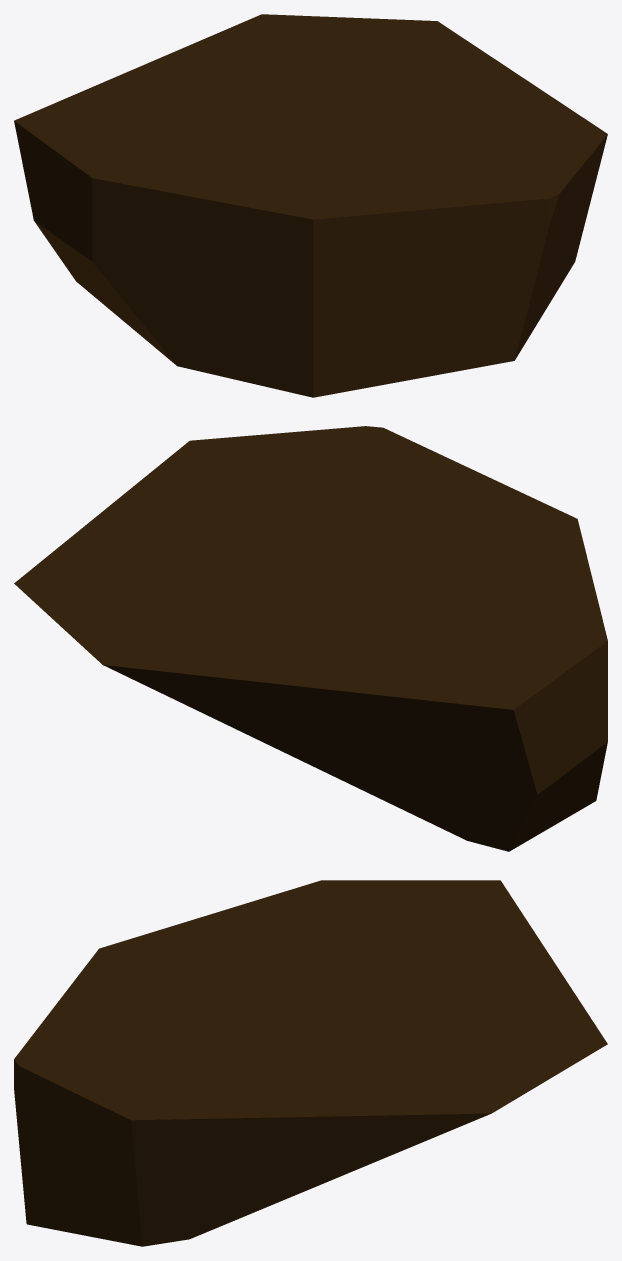
The model's file is Debris13.glb.
3 views of the same model, one above another, from view 1: azimuth 30°, elevation 25°; view 2: azimuth 150°, elevation 25°; view 3: azimuth 270°, elevation 25° (orthographic). The views are drawn at different scales.
Visible parts, largest first — view 1: Cylinder_cell.010; view 2: Cylinder_cell.010; view 3: Cylinder_cell.010.
Boxes of the visible parts, <box> form: Cylinder_cell.010: <box>14,14,607,397</box>; Cylinder_cell.010: <box>14,426,607,851</box>; Cylinder_cell.010: <box>14,880,607,1246</box>.
Bounding box in the file's own units: 1.44 × 0.5664 × 1.5.
